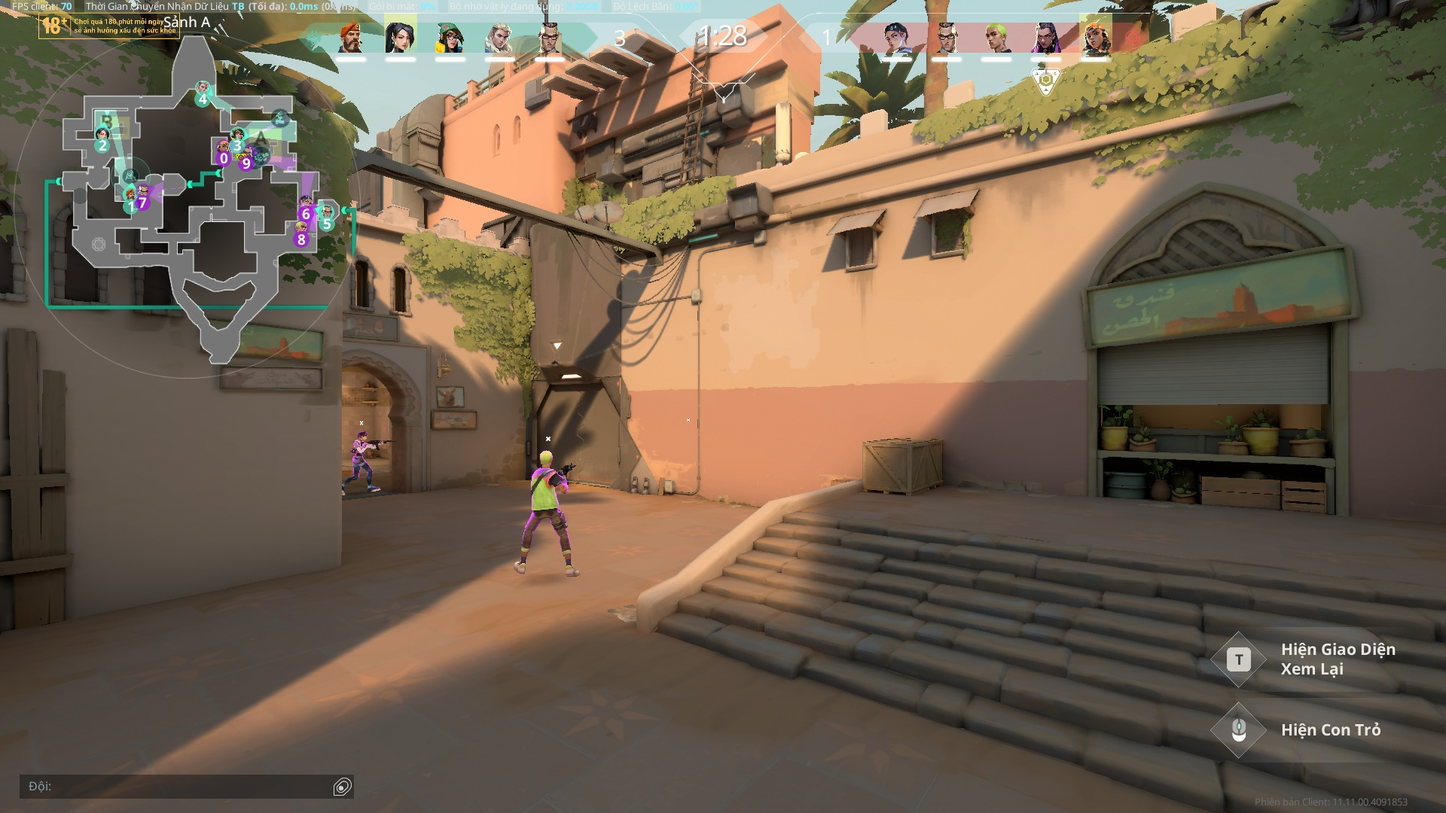body: (529, 467, 561, 504), (352, 438, 368, 457)
head: (537, 449, 553, 466), (357, 430, 367, 440)
